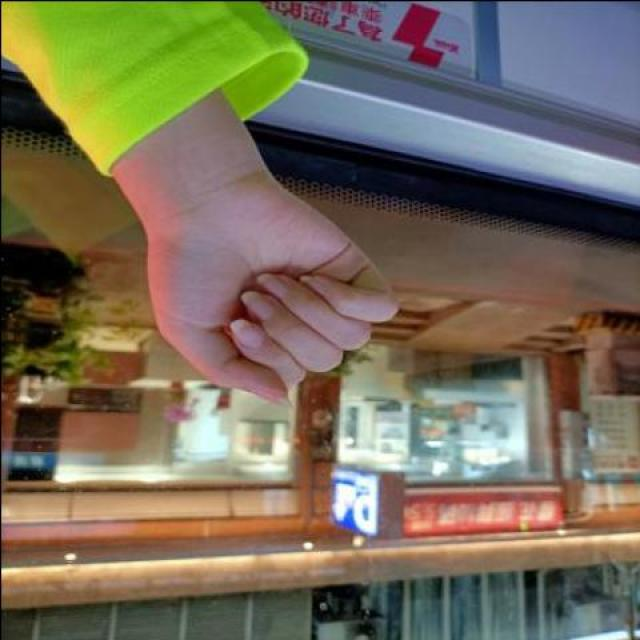Closed Hand: (145, 198, 404, 411)
